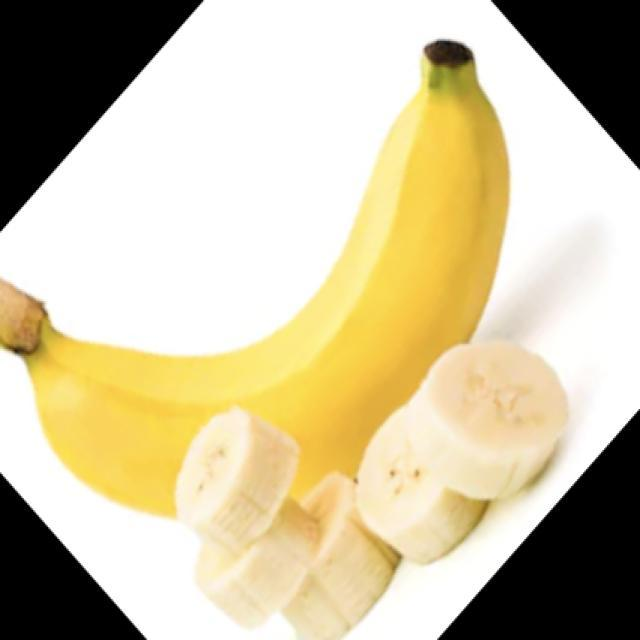Banana: (0, 37, 511, 521), (278, 391, 415, 616), (196, 518, 400, 638), (422, 350, 556, 479), (173, 406, 300, 536)
